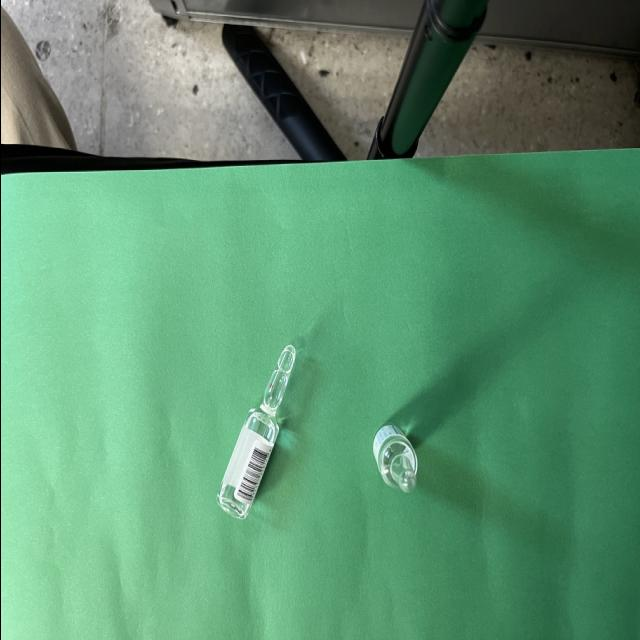Ampoules: (216, 345, 296, 519), (372, 424, 416, 493)
